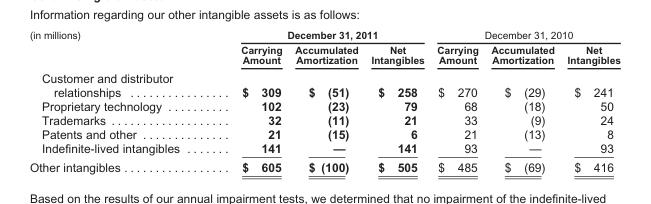table: (28, 28, 619, 173)
table column: (28, 28, 209, 173), (209, 28, 287, 173), (287, 28, 364, 173), (484, 28, 560, 173), (364, 28, 430, 173), (560, 28, 619, 173), (430, 28, 484, 173)
table column header: (28, 28, 619, 68)
table row: (28, 68, 619, 98), (28, 41, 619, 68), (28, 156, 619, 173), (28, 140, 619, 156), (28, 98, 619, 112), (28, 112, 619, 126), (28, 126, 619, 140), (28, 28, 619, 41)
table spanning cell: (28, 28, 209, 68), (209, 28, 430, 41), (430, 28, 619, 41)
